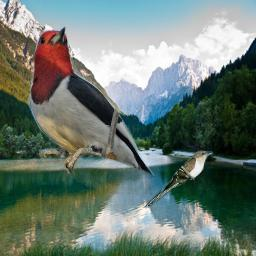Cuckoo: (143, 150, 214, 210)
Woodpecker: (23, 18, 162, 194)
